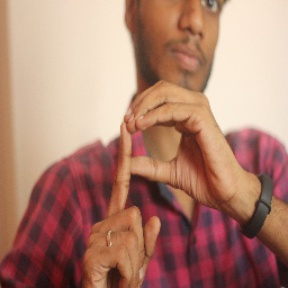P: (80, 78, 229, 276)
